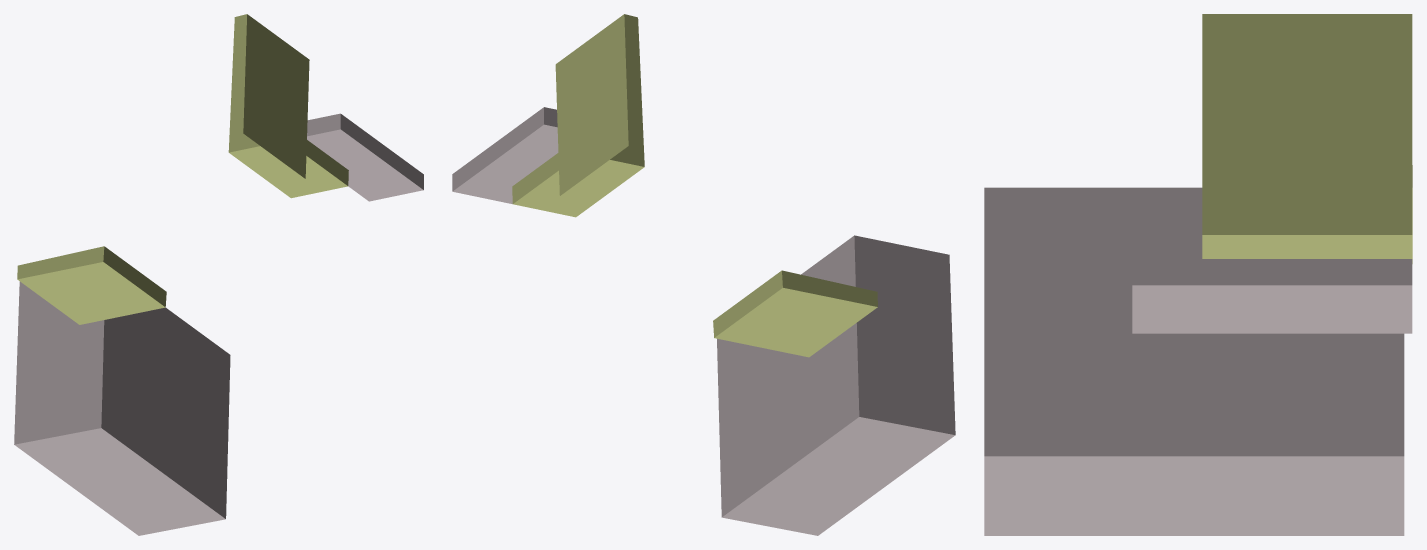
The picture shows the model from 3 angles, left to right: view 1: azimuth 30°, elevation 25°; view 2: azimuth 150°, elevation 25°; view 3: azimuth 270°, elevation 25°; orthographic projection. The views are drawn at different scales.
Parts seen in each view (by area): view 1: 0_2_1_3_0_0_3_1_1; view 2: 0_2_1_3_0_0_3_1_1; view 3: 0_2_1_3_0_0_3_1_1.
Part boxes in pixels (box(x1,y1,x2,y2)): 0_2_1_3_0_0_3_1_1: box(14, 14, 423, 535); 0_2_1_3_0_0_3_1_1: box(452, 14, 955, 535); 0_2_1_3_0_0_3_1_1: box(984, 14, 1412, 535).
Size of the model in its own units: 27.42 by 29.96 by 18.35.
